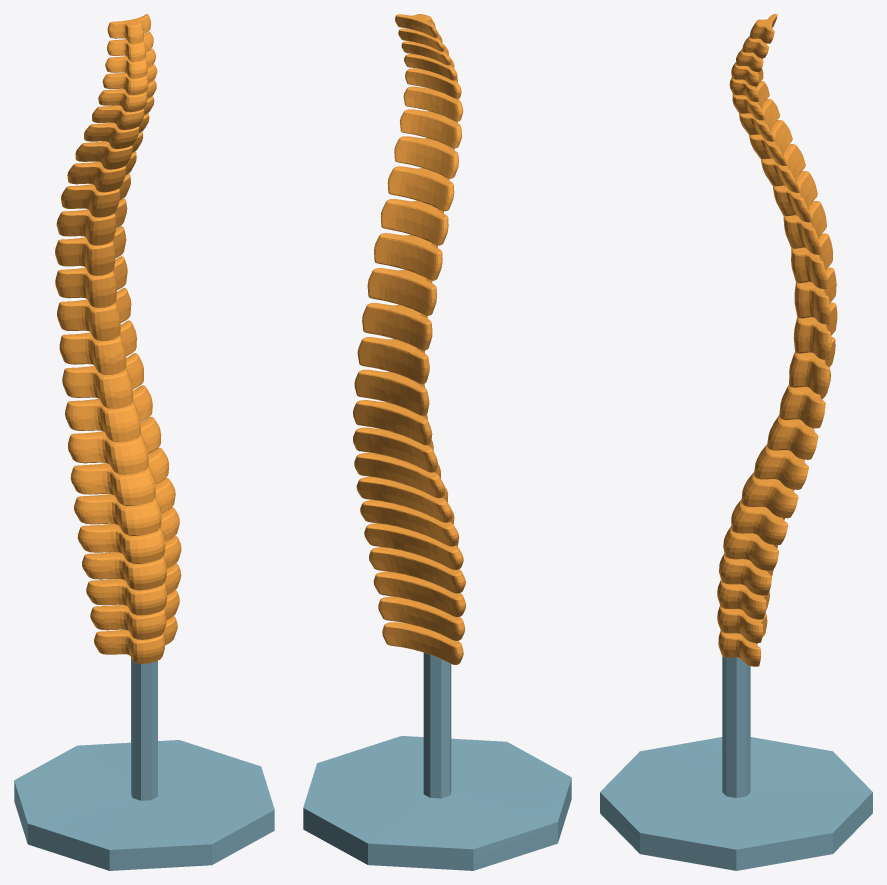
Rendered from ColoneVertebrale.fbx.
3 views of the same model, side by side, from view 1: azimuth 30°, elevation 25°; view 2: azimuth 150°, elevation 25°; view 3: azimuth 270°, elevation 25° (orthographic). The views are drawn at different scales.
Visible parts, largest first — view 1: Cylinder.002; view 2: Cylinder.002; view 3: Cylinder.002.
Boxes of the visible parts, x1,y1,x2,y2 form: Cylinder.002: (14, 14, 274, 870); Cylinder.002: (303, 14, 571, 870); Cylinder.002: (600, 14, 872, 870).
Bounding box in the file's own units: 182 × 584 × 182.
